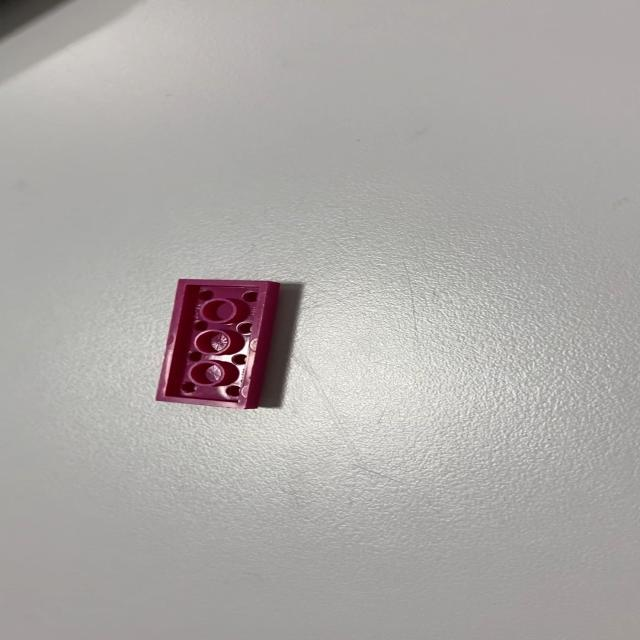C4x2x0: (154, 277, 280, 410)
